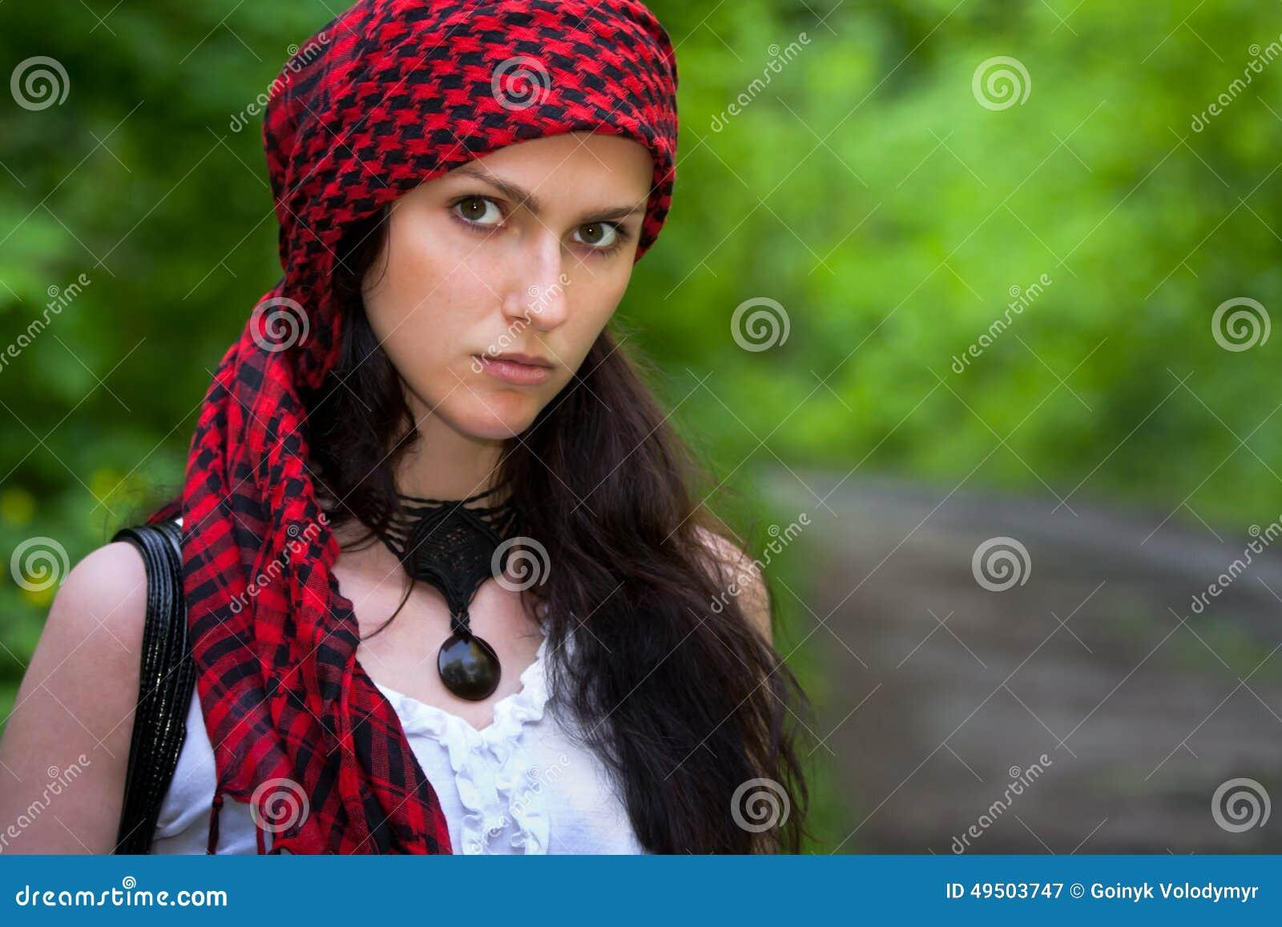cap: (248, 0, 705, 275)
